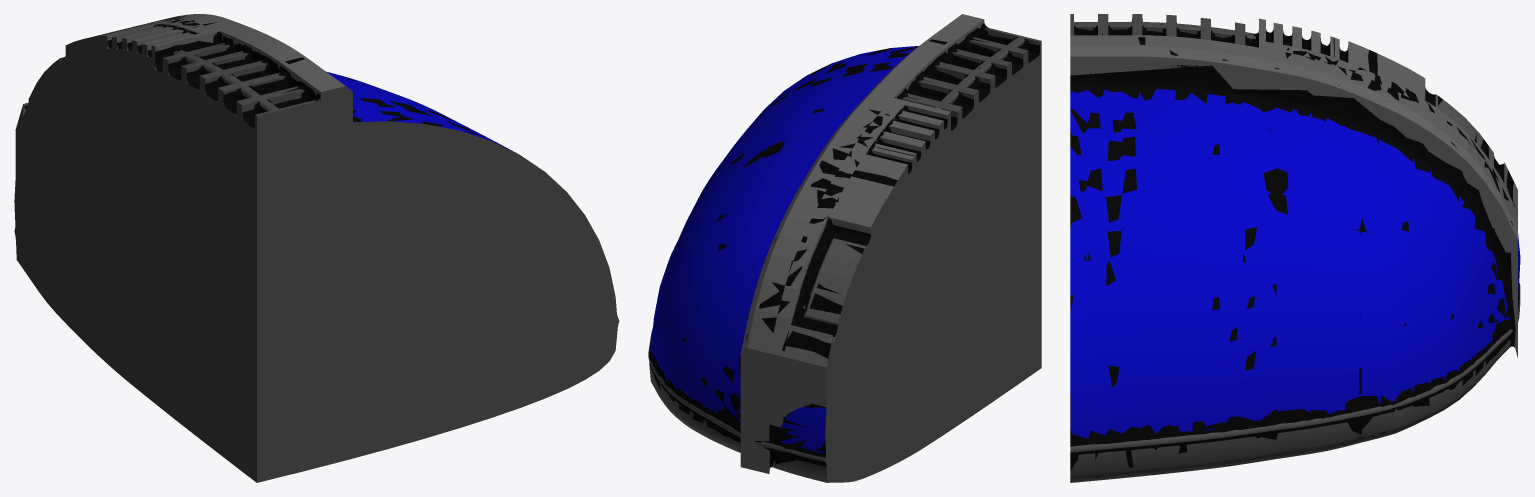
File: newsh9-18.glb
3 views of the same model, side by side, from view 1: azimuth 30°, elevation 25°; view 2: azimuth 150°, elevation 25°; view 3: azimuth 270°, elevation 25° (orthographic). The views are drawn at different scales.
Visible parts, largest first — view 1: newsh9-18, newsh9-18_outline; view 2: newsh9-18, newsh9-18_outline; view 3: newsh9-18, newsh9-18_outline.
Part boxes in pixels (x1,y1,x2,y2): newsh9-18: (14,14,619,482); newsh9-18_outline: (15,15,618,326); newsh9-18: (648,14,1041,482); newsh9-18_outline: (649,22,1039,467); newsh9-18: (1070,14,1520,482); newsh9-18_outline: (1070,18,1519,481).
Size of the model in its own units: 1.89 by 1.87 by 2.19.
